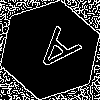A: (25, 25, 83, 82)
